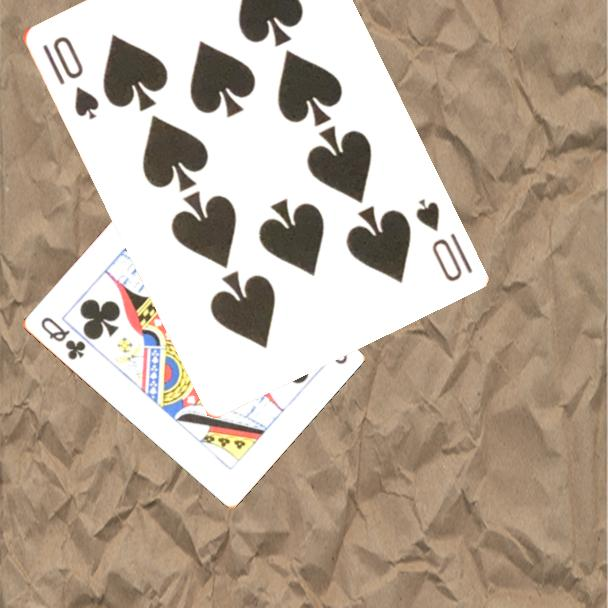c12: (37, 313, 88, 363)
s10: (38, 32, 102, 123), (411, 194, 475, 285)
